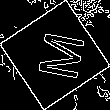M_W: (26, 27, 84, 83)
